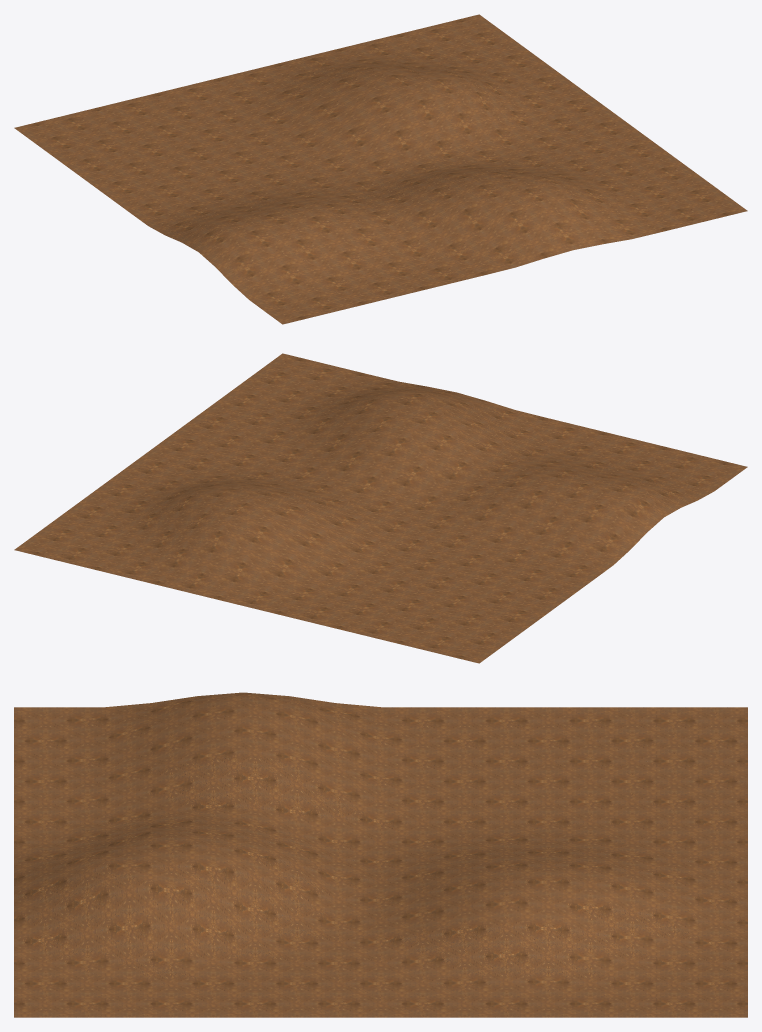
File: mars.glb
3 views of the same model, one above another, from view 1: azimuth 30°, elevation 25°; view 2: azimuth 150°, elevation 25°; view 3: azimuth 270°, elevation 25° (orthographic). The views are drawn at different scales.
Visible parts, largest first — view 1: Plane; view 2: Plane; view 3: Plane.
Part boxes in pixels (x1=…): Plane: x1=14, y1=14, x2=747, y2=324; Plane: x1=14, y1=353, x2=747, y2=663; Plane: x1=14, y1=692, x2=747, y2=1017.
Size of the model in its own units: 500 by 27.89 by 500.
Materials: 1 (1 with a texture image).
